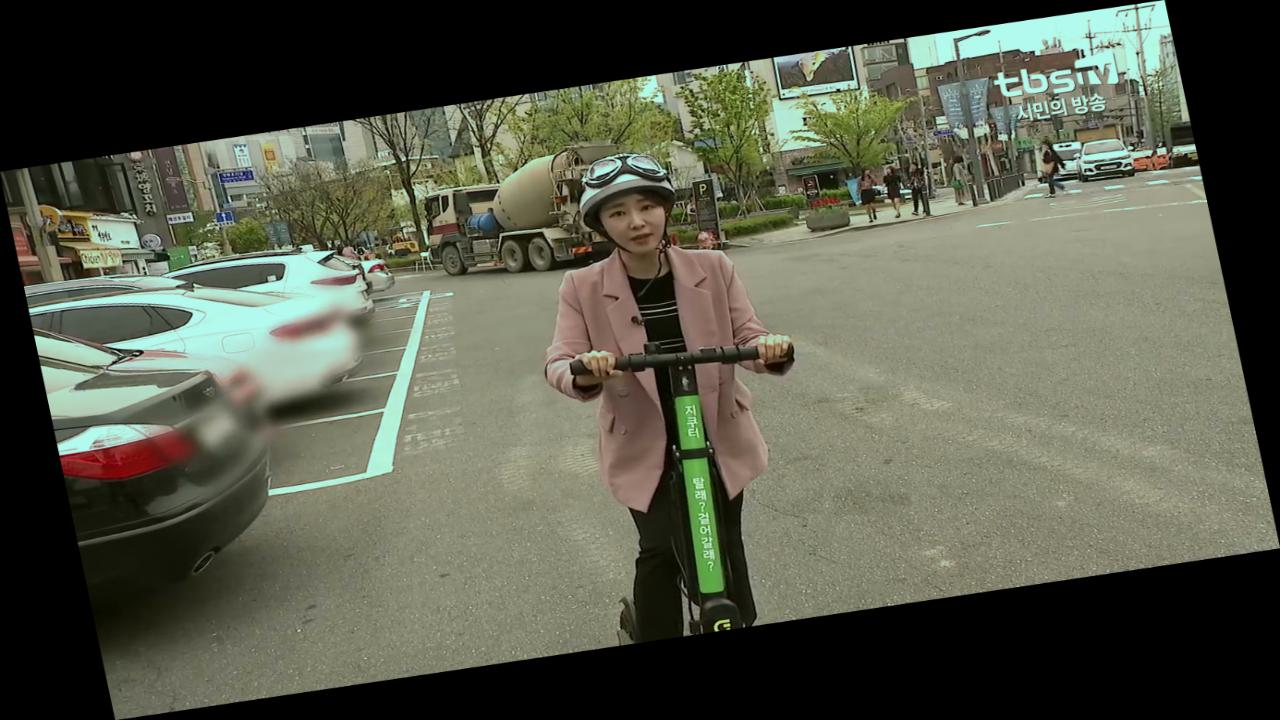helmet: (502, 134, 854, 648)
